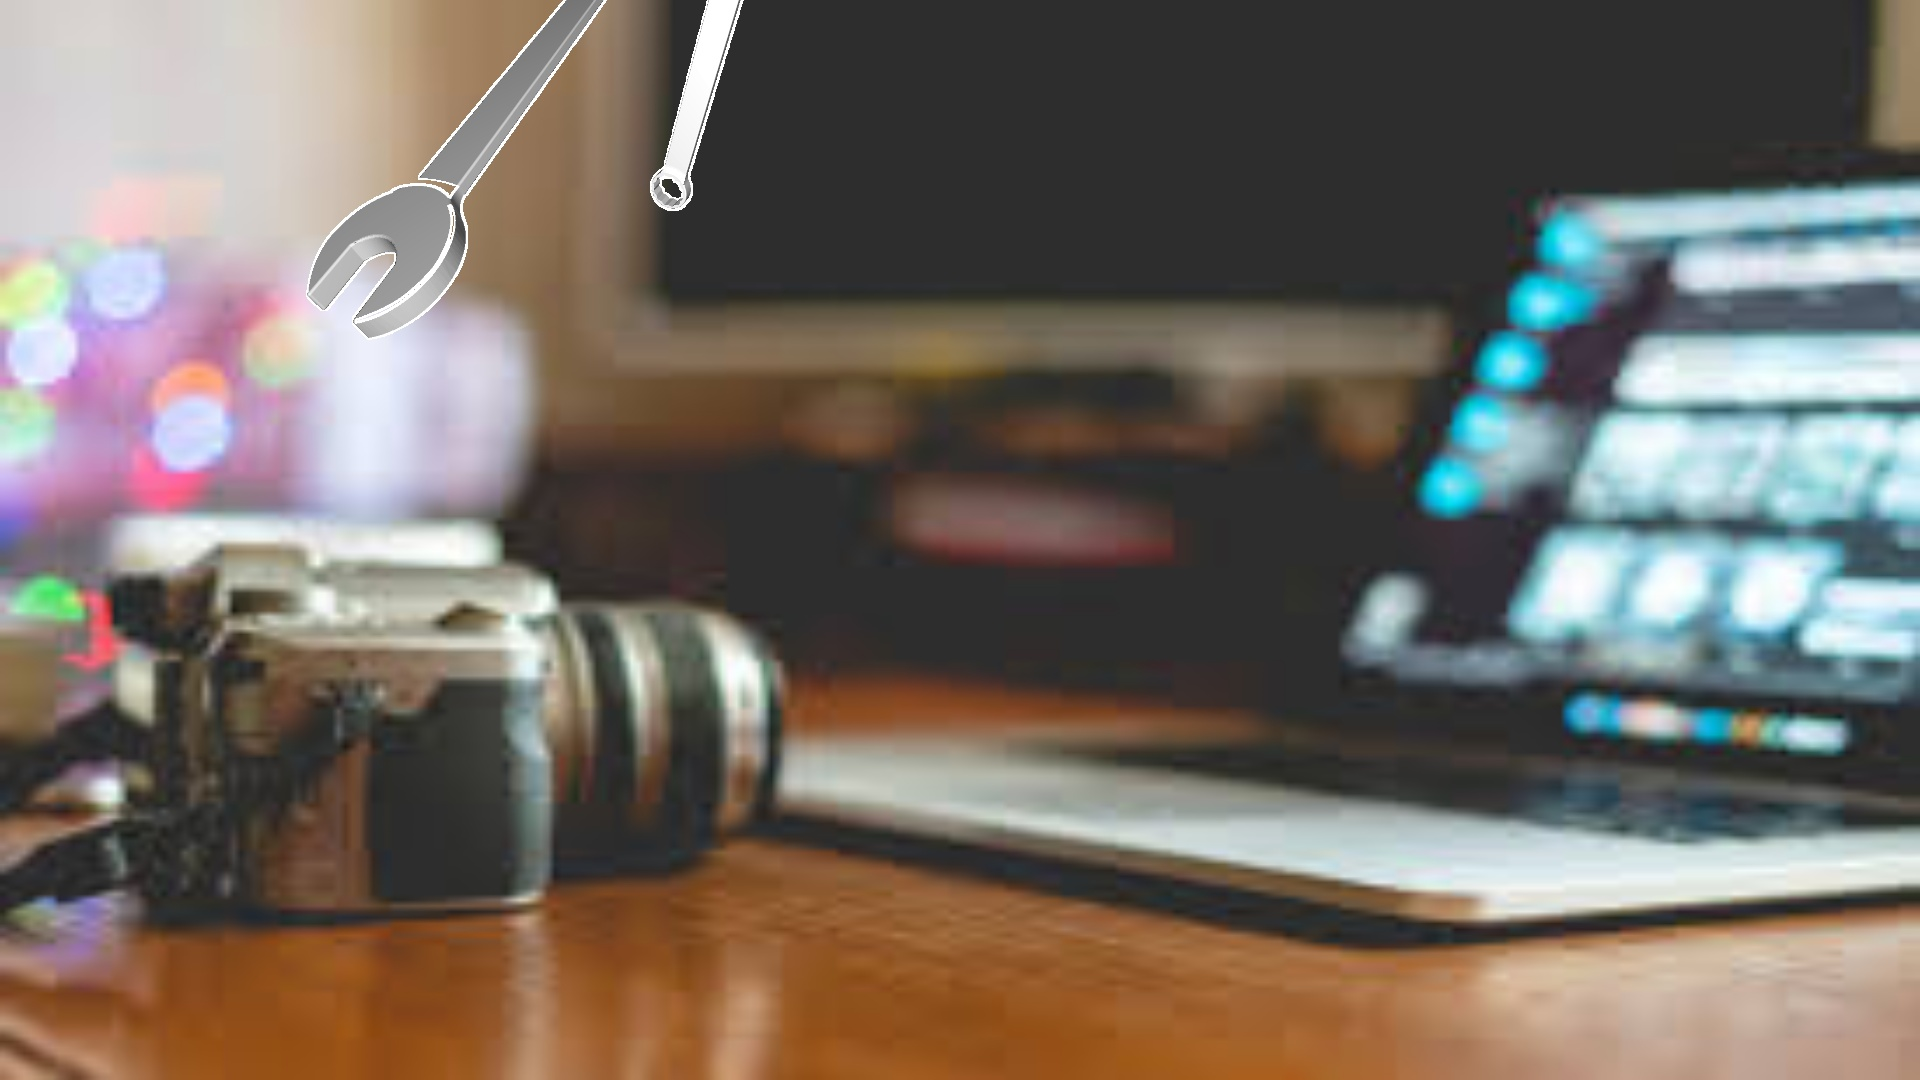Mixed Key: (306, 0, 606, 339), (650, 0, 743, 210)
